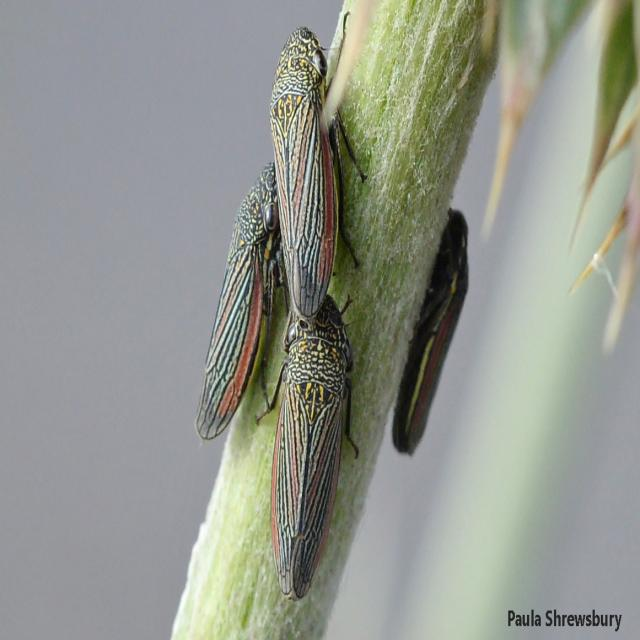Yechan: (275, 270, 365, 617), (186, 144, 284, 460), (264, 19, 353, 315), (392, 176, 475, 466)
